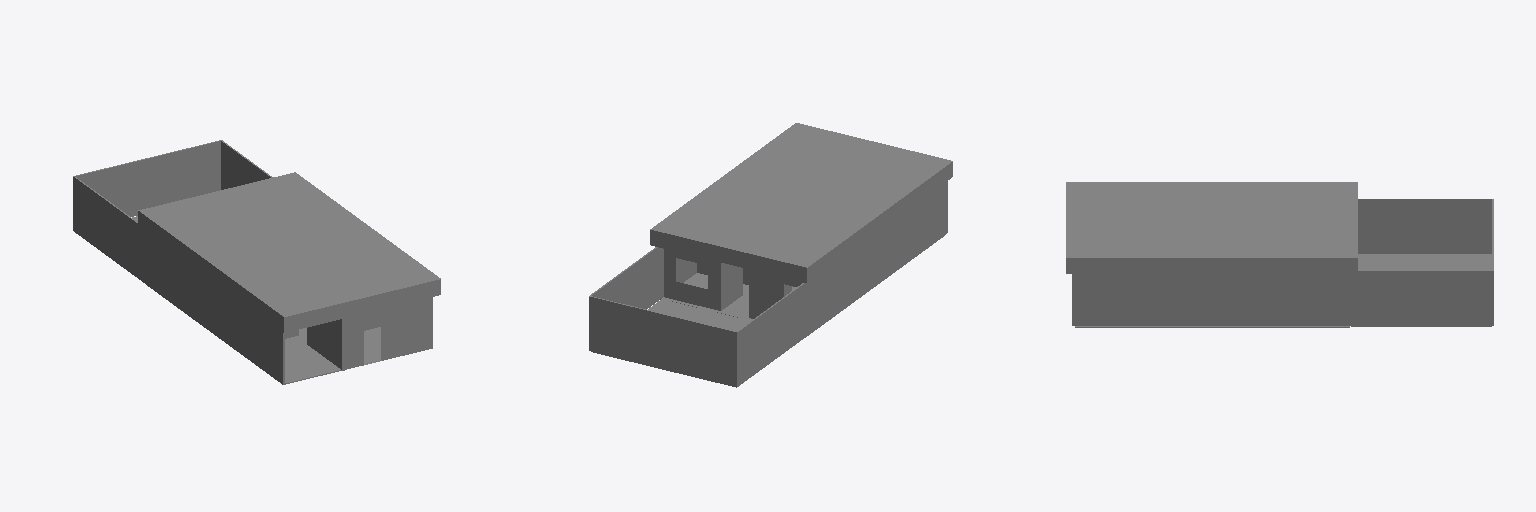
File: est.obj
3 renders of one model, left to right at view 1: azimuth 30°, elevation 25°; view 2: azimuth 150°, elevation 25°; view 3: azimuth 270°, elevation 25°, orthographic.
Parts seen in each view (by area): view 1: Box165, Line001, Box159, Line002; view 2: Box165, Line001, Line020, Box160, Line019, Box159, Line018; view 3: Line001, Box165, Box160, Box159.
Part boxes in pixels (bbox=[...]): Box165: bbox=[138, 172, 440, 332]; Line001: bbox=[73, 140, 432, 384]; Box159: bbox=[146, 284, 380, 384]; Line002: bbox=[307, 318, 344, 370]; Box165: bbox=[650, 123, 952, 283]; Line001: bbox=[589, 181, 947, 386]; Line020: bbox=[664, 249, 720, 310]; Box160: bbox=[591, 299, 806, 387]; Line019: bbox=[749, 270, 802, 318]; Box159: bbox=[660, 235, 944, 335]; Line018: bbox=[721, 263, 748, 310]; Line001: bbox=[1072, 199, 1493, 325]; Box165: bbox=[1066, 182, 1357, 273]; Box160: bbox=[1351, 254, 1491, 326]; Box159: bbox=[1075, 326, 1349, 327].
Bounding box in the file's own units: 3326585 × 1455434 × 7830312.